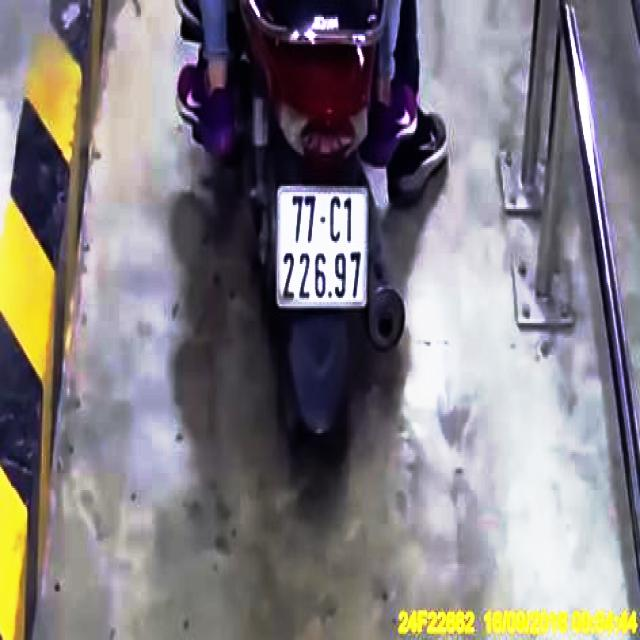license_plate: (279, 191, 371, 302)
